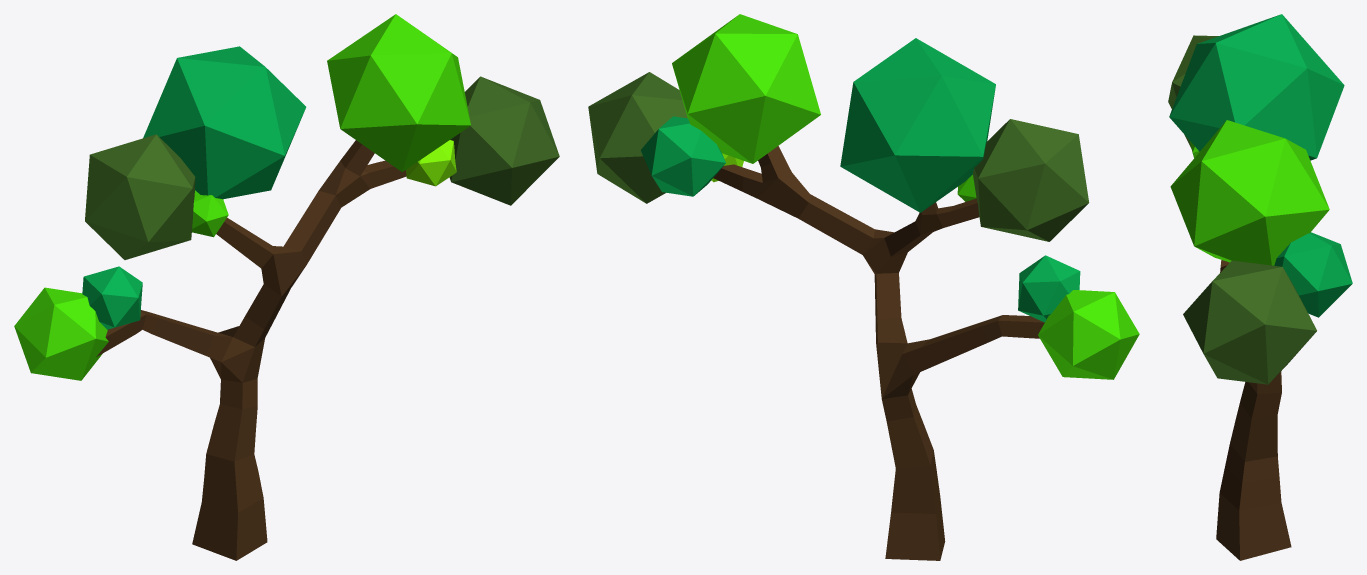
File: FruitTree.fbx
The picture shows the model from 3 angles, left to right: view 1: azimuth 30°, elevation 25°; view 2: azimuth 150°, elevation 25°; view 3: azimuth 270°, elevation 25°; orthographic projection. The views are drawn at different scales.
Parts seen in each view (by area): view 1: Cube, Icosphere.002, Icosphere.001, Icosphere.003, Icosphere, Icosphere.004, Icosphere.006, Icosphere.007, Icosphere.008; view 2: Cube, Icosphere.002, Icosphere.001, Icosphere.003, Icosphere, Icosphere.004, Icosphere.005, Icosphere.006; view 3: Icosphere.002, Icosphere.001, Icosphere, Cube, Icosphere.005, Icosphere.003.
Boxes of the visible parts, bbox=[...] form: Cube: bbox=[96, 140, 406, 560]; Icosphere.002: bbox=[143, 46, 306, 199]; Icosphere.001: bbox=[327, 14, 470, 171]; Icosphere.003: bbox=[85, 134, 195, 259]; Icosphere: bbox=[449, 76, 559, 205]; Icosphere.004: bbox=[14, 287, 108, 380]; Icosphere.006: bbox=[82, 266, 142, 329]; Icosphere.007: bbox=[406, 140, 456, 186]; Icosphere.008: bbox=[192, 190, 228, 237]; Cube: bbox=[713, 146, 1044, 560]; Icosphere.002: bbox=[840, 38, 995, 212]; Icosphere.001: bbox=[672, 14, 820, 163]; Icosphere.003: bbox=[972, 119, 1089, 241]; Icosphere: bbox=[588, 72, 687, 203]; Icosphere.004: bbox=[1038, 290, 1139, 379]; Icosphere.005: bbox=[640, 116, 725, 196]; Icosphere.006: bbox=[1018, 255, 1080, 322]; Icosphere.002: bbox=[1169, 14, 1344, 160]; Icosphere.001: bbox=[1170, 120, 1329, 265]; Icosphere: bbox=[1183, 260, 1316, 384]; Cube: bbox=[1216, 260, 1291, 560]; Icosphere.005: bbox=[1274, 232, 1352, 317]; Icosphere.003: bbox=[1168, 35, 1218, 148].
Bounding box in the file's own units: 908 × 806 × 264.
